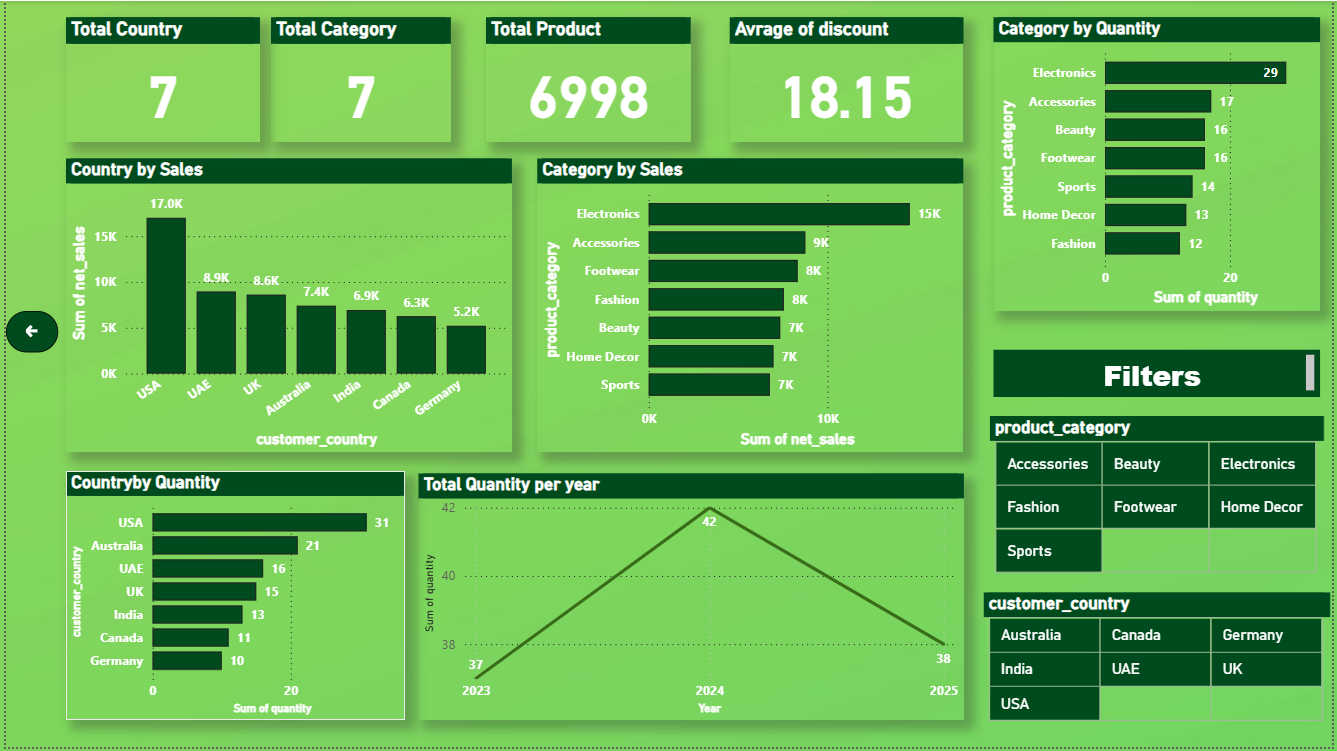

The page's visual inventory and layout, read from the dashboard file:
{"tool":"powerbi","page":{"name":"country_catrogry","canvas":[1280,720],"ordinal":2},"visuals":[{"type":"clusteredColumnChart","title":"Country by Sales","fields":{"Category":["shopify_sales_dataset_ml_eda-selected-columns.customer_country"],"Y":["Sum(shopify_sales_dataset_ml_eda-selected-columns.net_sales)"]},"box":[57.9,152,430.7,283.5],"z":0},{"type":"clusteredBarChart","title":"Category by Sales","fields":{"Category":["shopify_sales_dataset_ml_eda-selected-columns.product_category"],"Y":["Sum(shopify_sales_dataset_ml_eda-selected-columns.net_sales)"]},"box":[512.7,152,411.4,283.5],"z":1000},{"type":"clusteredBarChart","title":"Countryby Quantity","fields":{"Y":["Sum(shopify_sales_dataset_ml_eda-selected-columns.quantity)"],"Category":["shopify_sales_dataset_ml_eda-selected-columns.customer_country"]},"box":[57.5,453.8,327.5,240],"z":2000},{"type":"clusteredBarChart","title":"Category by Quantity","fields":{"Y":["Sum(shopify_sales_dataset_ml_eda-selected-columns.quantity)"],"Category":["shopify_sales_dataset_ml_eda-selected-columns.product_category"]},"box":[953.1,15.7,314.9,283.5],"z":3000},{"type":"lineChart","title":"Total Quantity per year","fields":{"Category":["shopify_sales_dataset_ml_eda-selected-columns.order_date.Variation.Date Hierarchy.Year"],"Y":["Sum(shopify_sales_dataset_ml_eda-selected-columns.quantity)"]},"box":[398.1,456,526,237.7],"z":4000},{"type":"card","title":"Total Country","fields":{"Values":["Count(shopify_sales_dataset_ml_eda-selected-columns.customer_country)"]},"box":[57.9,15.7,187,120.6],"z":5000},{"type":"card","title":"Total Category","fields":{"Values":["Count(shopify_sales_dataset_ml_eda-selected-columns.product_category)"]},"box":[255.8,15.7,173.7,120.6],"z":6000},{"type":"card","title":"Total Product","fields":{"Values":["Count(shopify_sales_dataset_ml_eda-selected-columns.product_id)"]},"box":[463.3,15.7,197.9,120.6],"z":7000},{"type":"card","title":"Avrage of discount","fields":{"Values":["Avg(shopify_sales_dataset_ml_eda-selected-columns.discount_percent)"]},"box":[698.5,15.7,225.6,120.6],"z":8000},{"type":"advancedSlicerVisual","fields":{"Values":["shopify_sales_dataset_ml_eda-selected-columns.product_category"]},"box":[949.5,400.5,322.1,158],"z":8001},{"type":"advancedSlicerVisual","fields":{"Values":["shopify_sales_dataset_ml_eda-selected-columns.customer_country"]},"box":[943.4,570.6,334.2,131.5],"z":8002},{"type":"textbox","box":[953.1,336.6,314.9,45.8],"z":8003},{"type":"actionButton","box":[0,299.2,50.7,39.8],"z":8004}]}

Visuals, with their boxes in screenshot pixels (x1, y1, x2, y2), scaled from the page's 1280x720 canvas onto the 1337x751 screenshot:
"Country by Sales" clusteredColumnChart: bbox=[60, 159, 510, 454]
"Category by Sales" clusteredBarChart: bbox=[536, 159, 965, 454]
"Countryby Quantity" clusteredBarChart: bbox=[60, 473, 402, 724]
"Category by Quantity" clusteredBarChart: bbox=[996, 16, 1324, 312]
"Total Quantity per year" lineChart: bbox=[416, 476, 965, 724]
"Total Country" card: bbox=[60, 16, 256, 142]
"Total Category" card: bbox=[267, 16, 449, 142]
"Total Product" card: bbox=[484, 16, 691, 142]
"Avrage of discount" card: bbox=[730, 16, 965, 142]
advancedSlicerVisual - shopify_sales_dataset_ml_eda-selected-columns.product_category: bbox=[992, 418, 1328, 583]
advancedSlicerVisual - shopify_sales_dataset_ml_eda-selected-columns.customer_country: bbox=[985, 595, 1334, 732]
textbox: bbox=[996, 351, 1324, 399]
actionButton: bbox=[0, 312, 53, 354]
